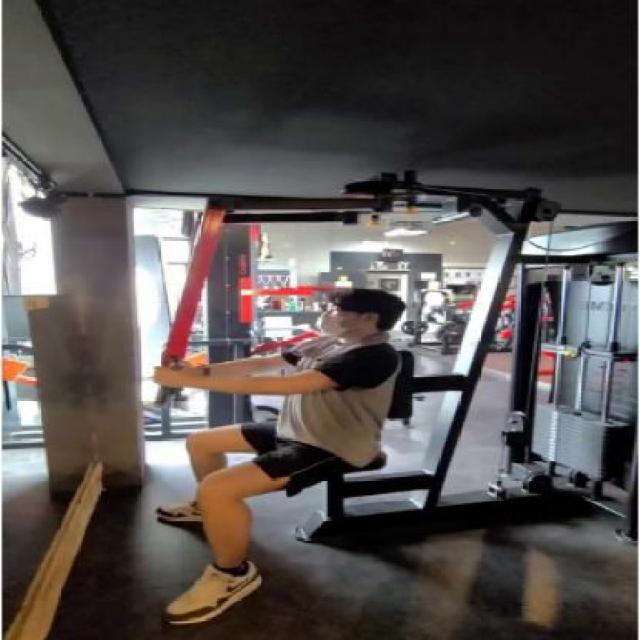chest fly machine: (74, 126, 640, 640)
